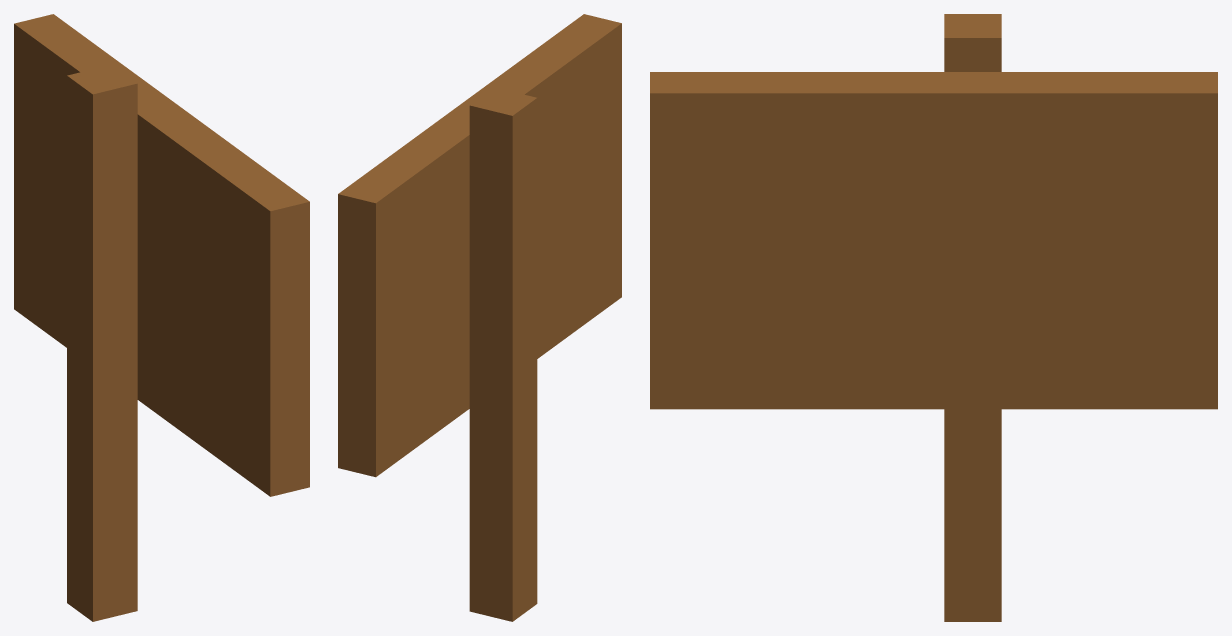
File: Sign_TFSGJ_Spring2025.fbx
The picture shows the model from 3 angles, left to right: view 1: azimuth 30°, elevation 25°; view 2: azimuth 150°, elevation 25°; view 3: azimuth 270°, elevation 25°; orthographic projection. The views are drawn at different scales.
Parts seen in each view (by area): view 1: Cube.002; view 2: Cube.002; view 3: Cube.002.
Part boxes in pixels (bbox=[...]): Cube.002: bbox=[14, 14, 309, 621]; Cube.002: bbox=[338, 14, 621, 621]; Cube.002: bbox=[650, 14, 1217, 621].
Size of the model in its own units: 5.24 by 31.37 by 27.64.
